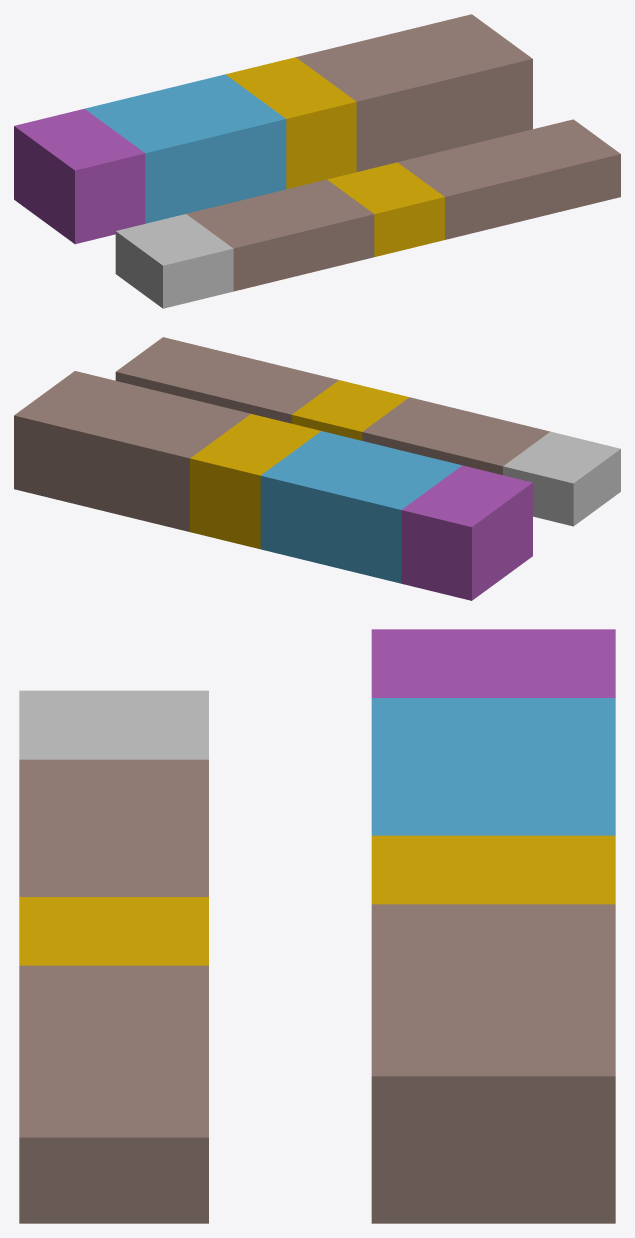
The model's file is i_shape_kitchen.glb.
The picture shows the model from 3 angles, top to bottom: view 1: azimuth 30°, elevation 25°; view 2: azimuth 150°, elevation 25°; view 3: azimuth 270°, elevation 25°; orthographic projection. The views are drawn at different scales.
Parts seen in each view (by area): view 1: world; view 2: world; view 3: world.
Part boxes in pixels (x1=…): world: x1=14, y1=14, x2=620, y2=308; world: x1=14, y1=337, x2=620, y2=600; world: x1=19, y1=629, x2=615, y2=1223.
Bounding box in the file's own units: 390 × 60 × 220.
